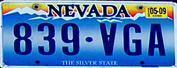placa de veiculo: (1, 1, 176, 68)
